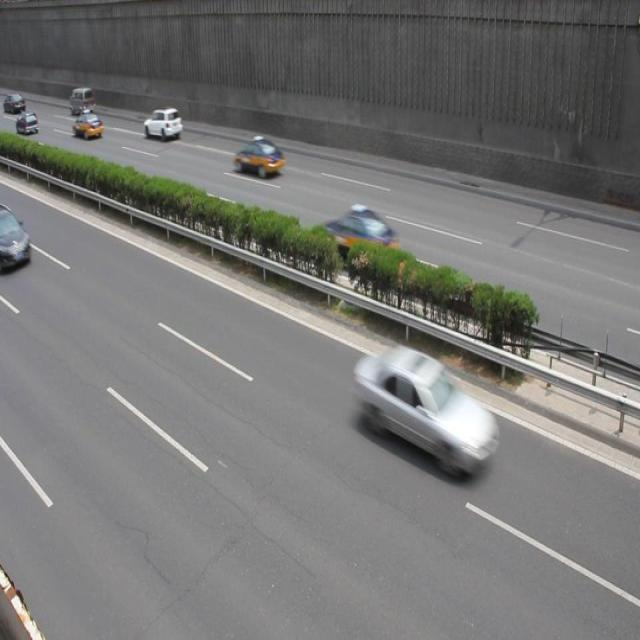car: (356, 346, 500, 479), (316, 204, 401, 271), (233, 134, 284, 178), (0, 208, 32, 272), (143, 108, 182, 141), (72, 111, 103, 140)
truck: (70, 86, 96, 115)
